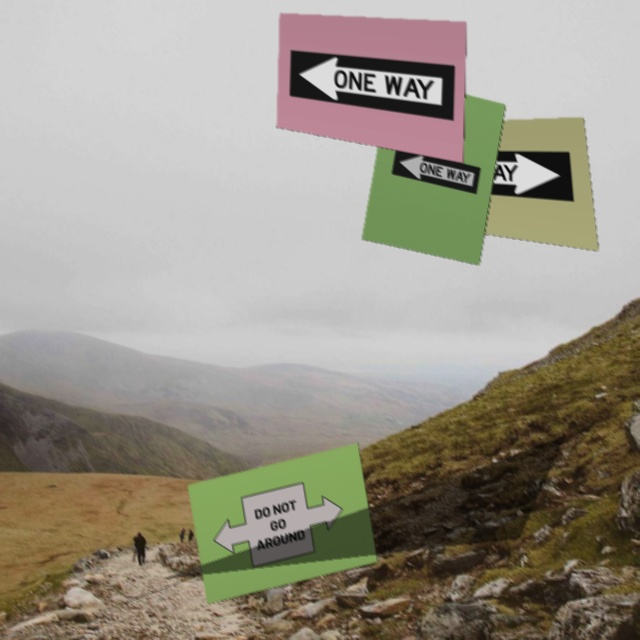DO_NOT_GO_AROUND: (208, 474, 349, 575)
ONE_WAY_ left: (285, 48, 460, 121), (392, 147, 481, 194)
ONE_WAY_ right: (422, 150, 575, 202)
